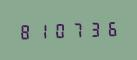eight: (17, 21, 33, 41)
one: (34, 21, 50, 40)
seven: (69, 19, 85, 39)
six: (103, 18, 119, 38)
three: (86, 19, 102, 38)
zero: (52, 20, 68, 40)
